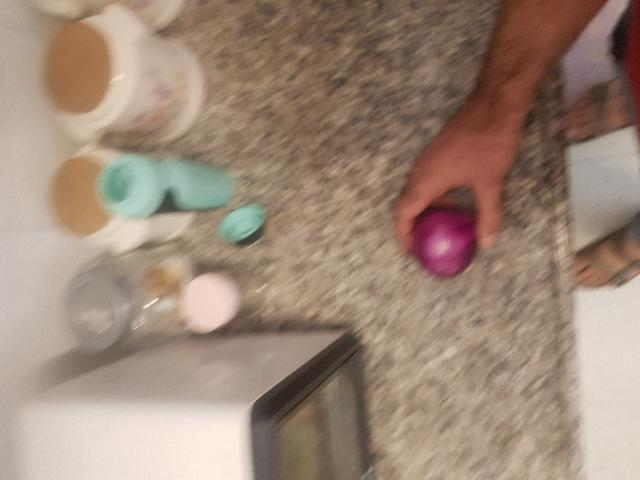onion: (196, 404, 258, 478)
